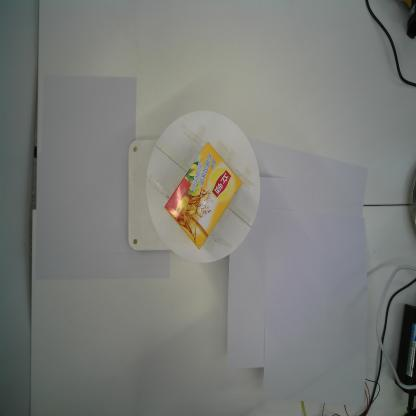Instant Drink: (164, 141, 243, 251)
